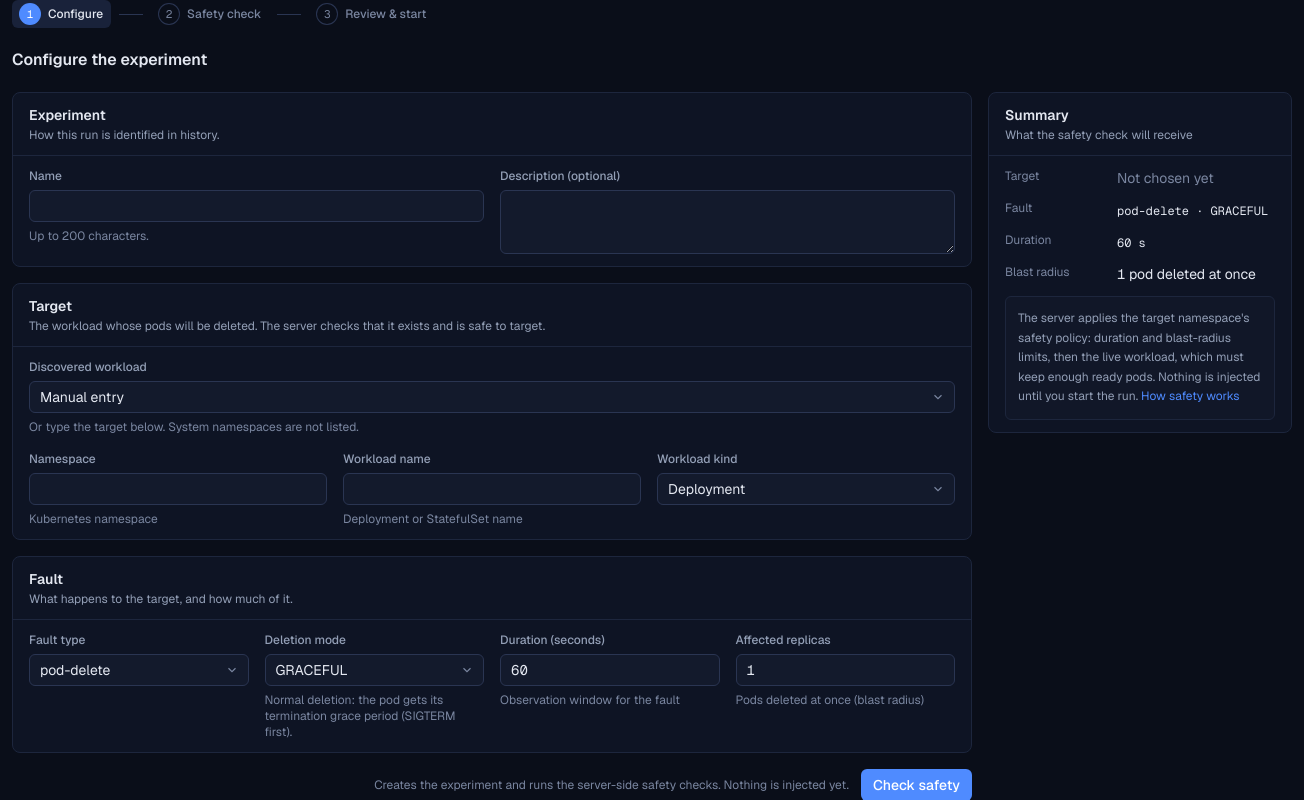
Test: Experiment builder › passed validation shows the server's checks and allows continuing
Type "checkout pod-delete" into the field labelled "Name". click: x=256, y=206
box: x1=29 y1=190 x2=484 y2=222
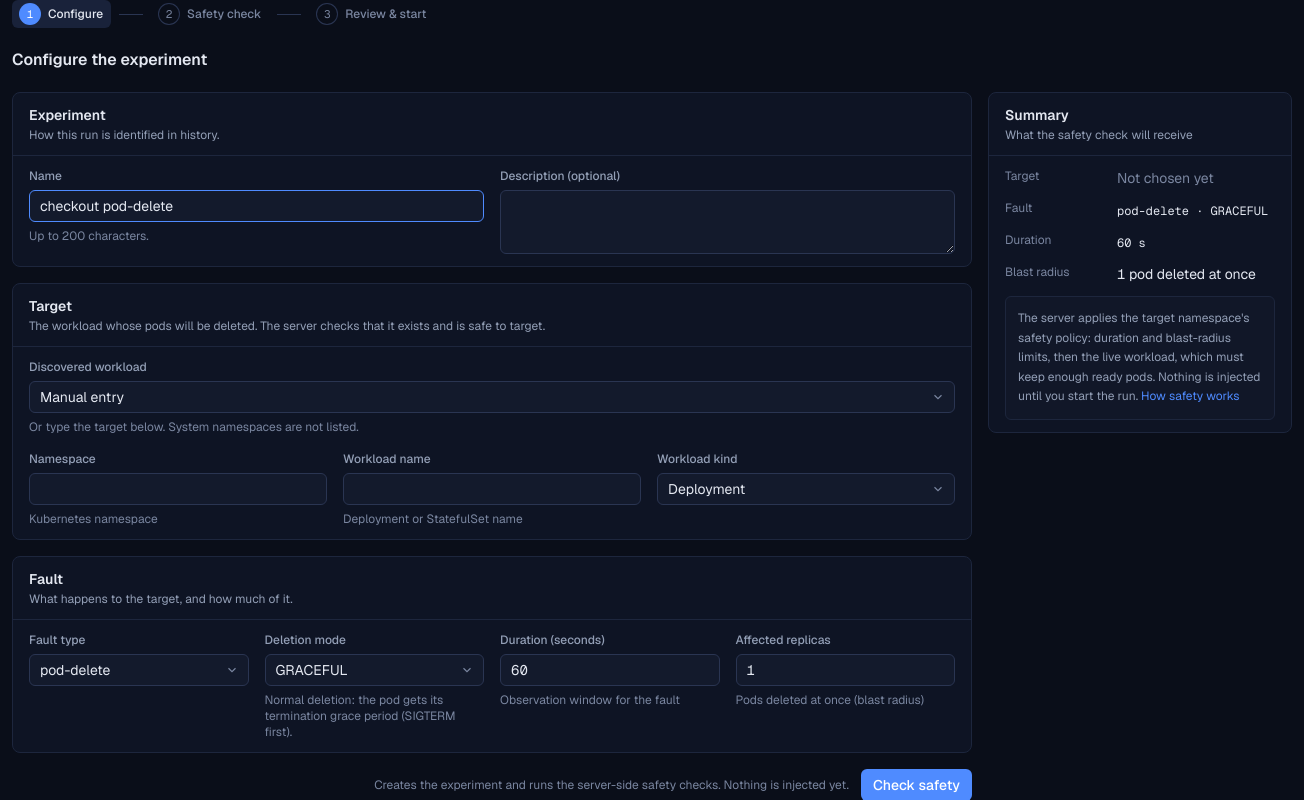
Type "shop" into the field labelled "Namespace". click: x=178, y=489
box: x1=29 y1=473 x2=327 y2=505
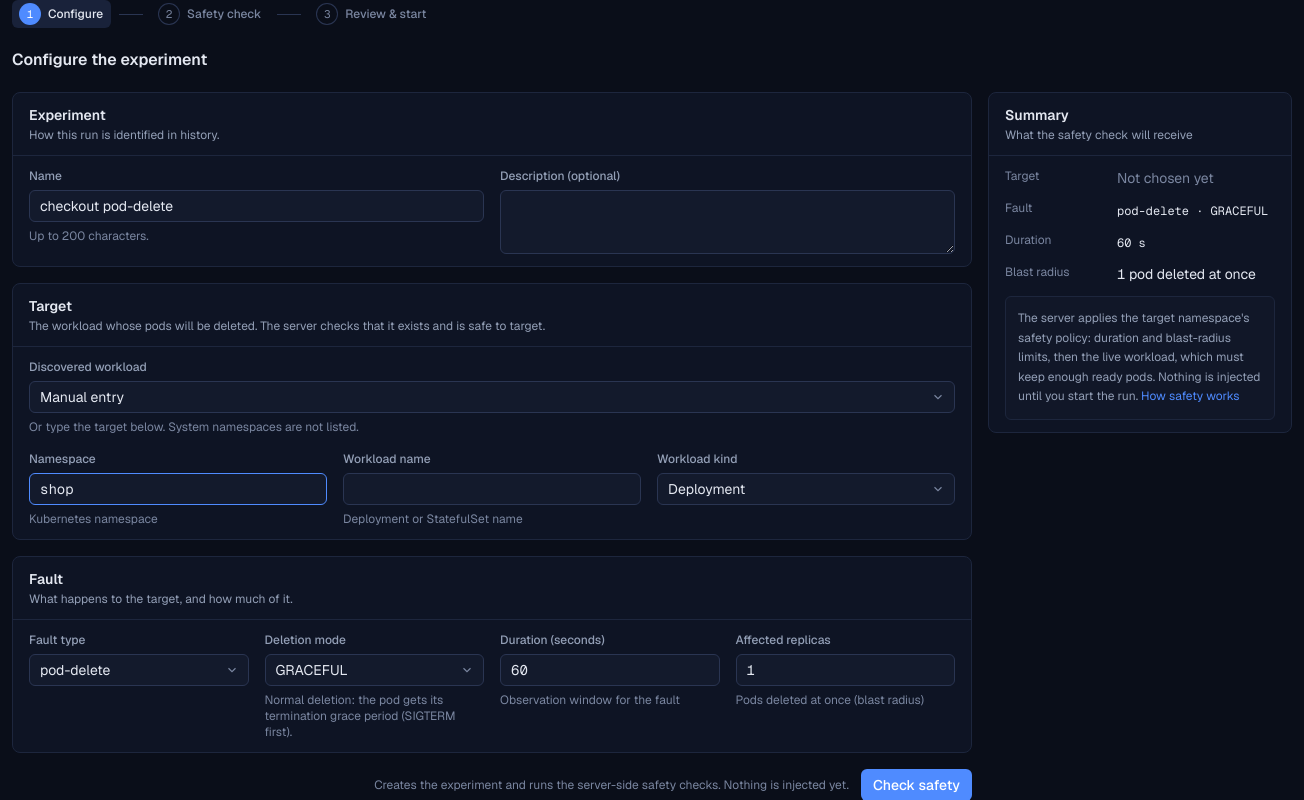
Type "checkout" into the field labelled "Workload name". click: x=492, y=489
box: x1=343 y1=473 x2=641 y2=505
(page scrolled)
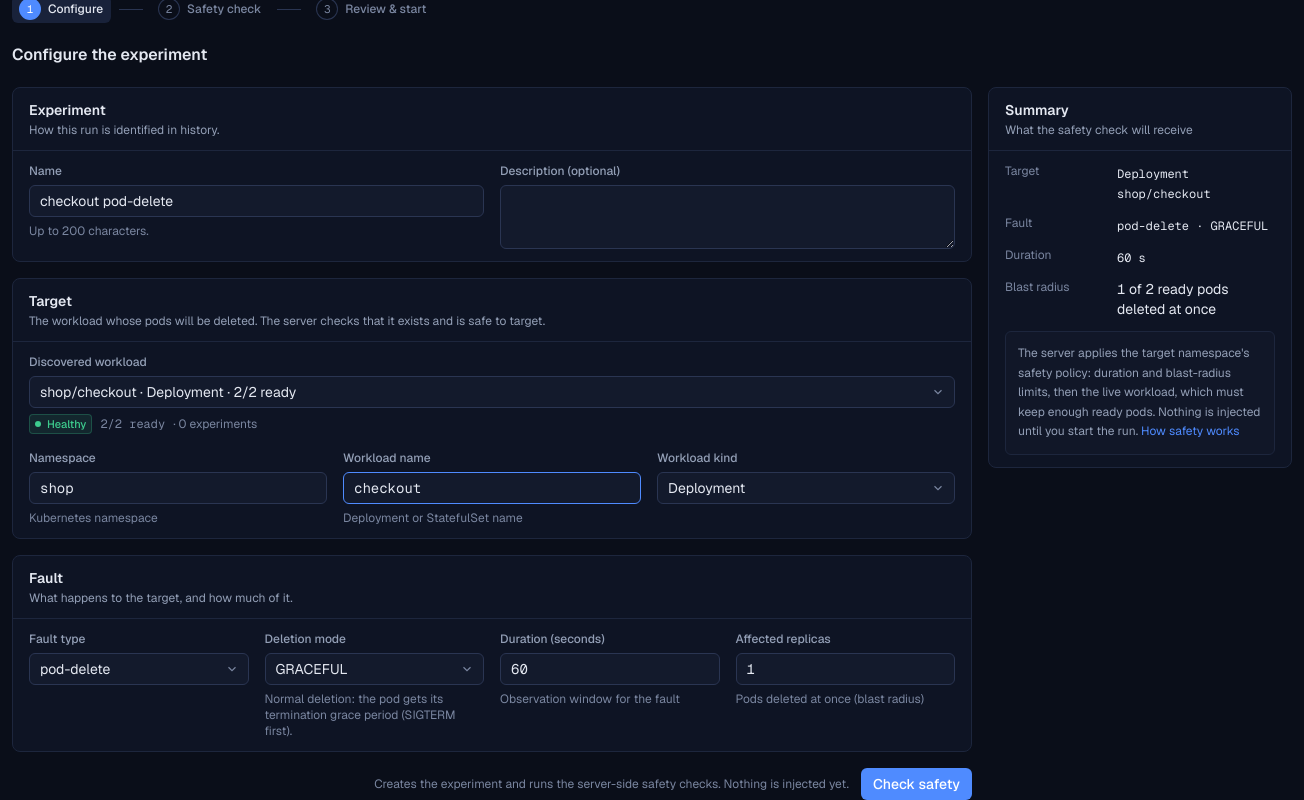
Click the button "Check safety". click: x=916, y=784
box: x1=861 y1=768 x2=972 y2=799
(page scrolled)
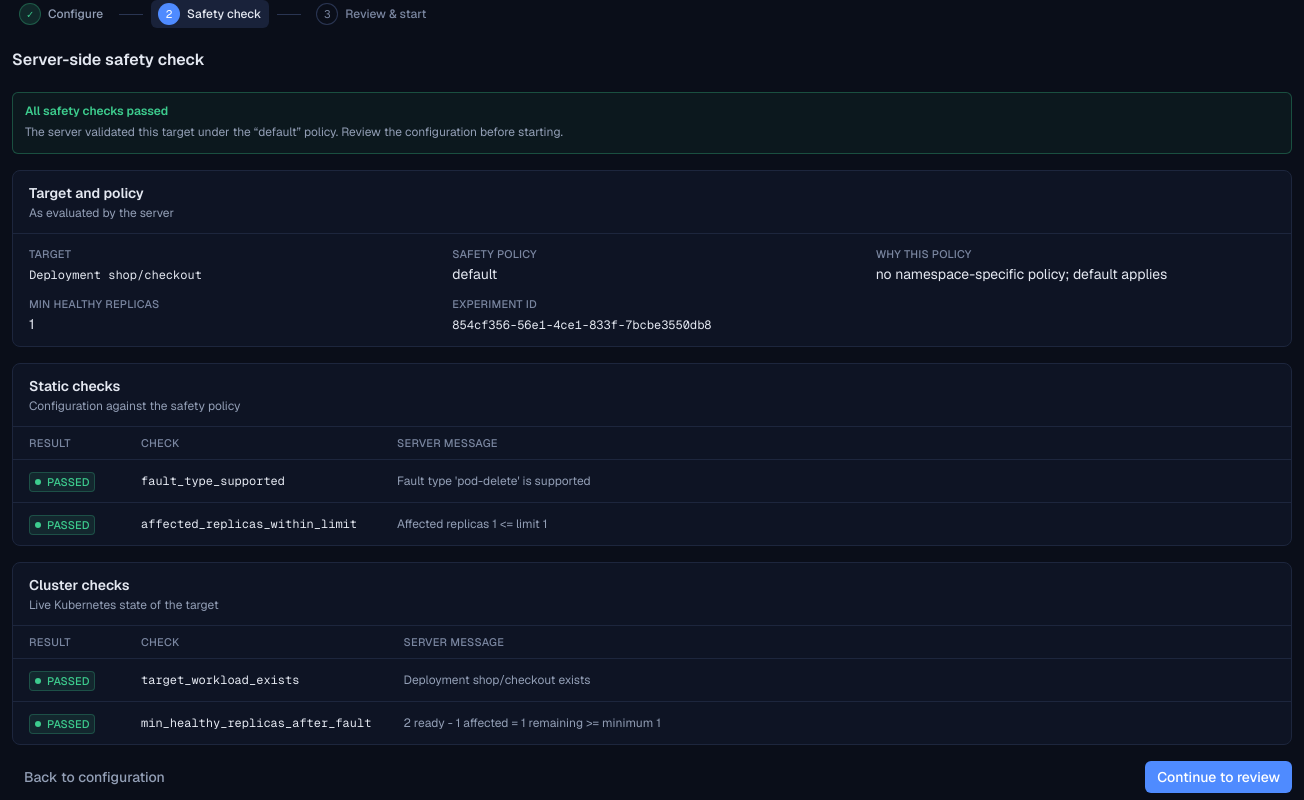
Expected: the text "All safety checks passed" is shown, x1=25 y1=103 x2=168 y2=119
Expected: the text "2 ready - 1 affected = 1 remaining >= minimum 1" is shown, x1=387 y1=701 x2=1291 y2=744
Expected: the button "Continue to review" is enabled, x1=1145 y1=760 x2=1292 y2=792
